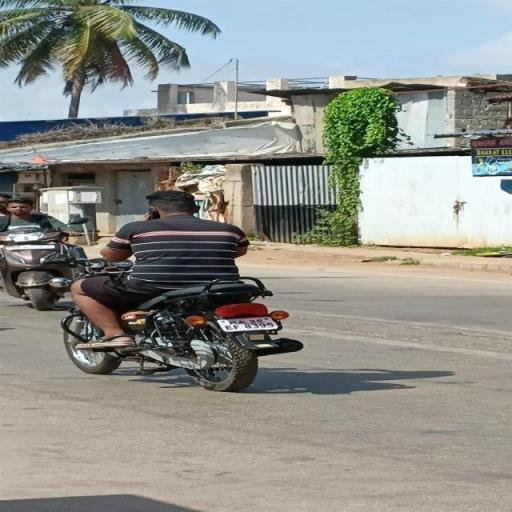numberplate: (217, 308, 285, 334)
using mobile: (142, 203, 164, 222)
